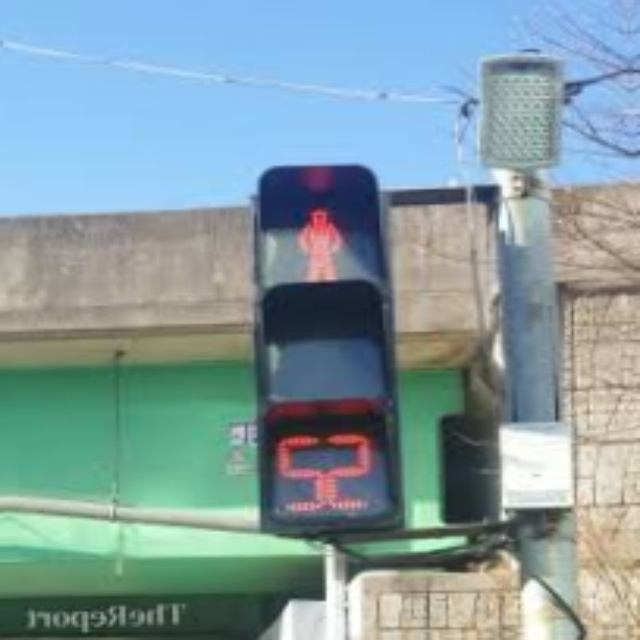red_light: (276, 432, 379, 521), (288, 206, 355, 287)
